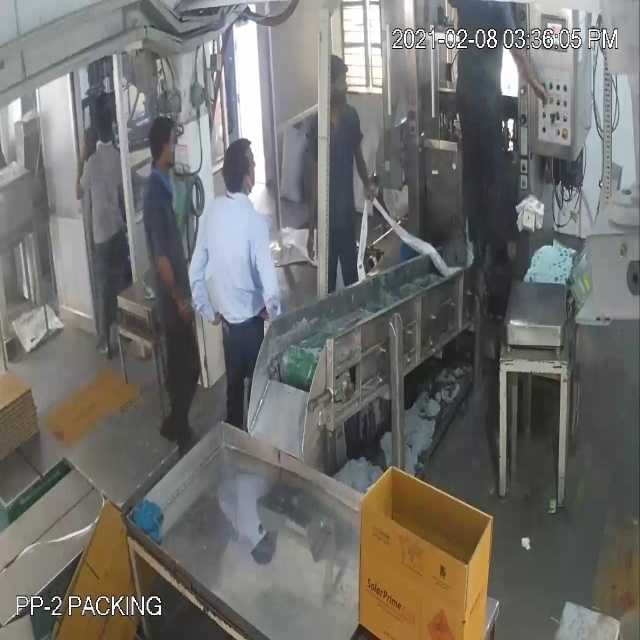Sin_guantes: (498, 22, 557, 117), (178, 235, 230, 337), (148, 228, 199, 330), (250, 221, 286, 335), (304, 148, 327, 278), (350, 133, 376, 208)
